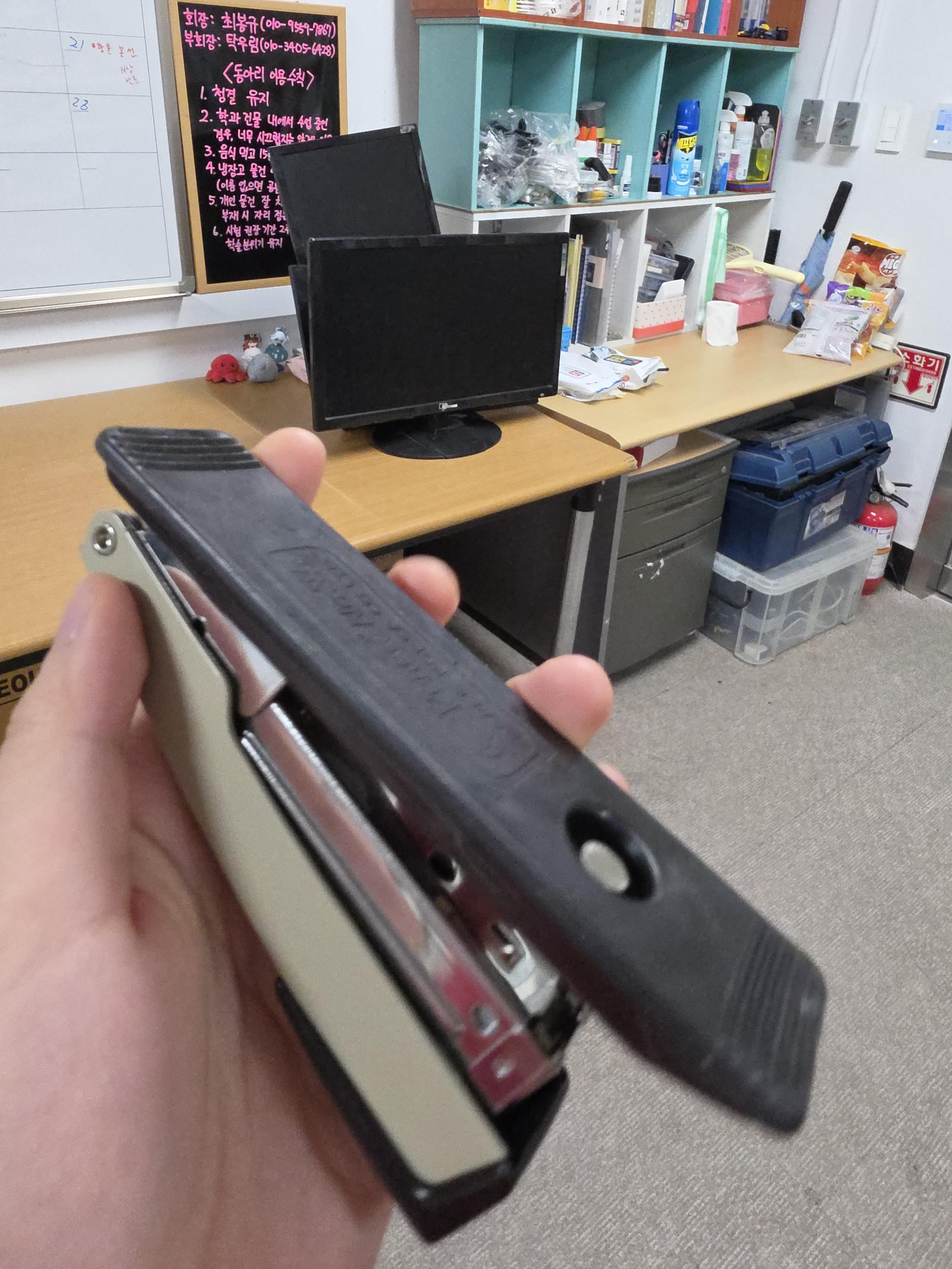stapler: (82, 424, 827, 1243)
tissue: (632, 279, 687, 340), (704, 300, 739, 347)
